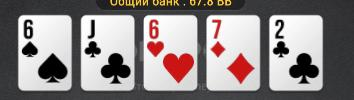2c: (271, 17, 322, 89)
6h: (145, 18, 196, 89)
6s: (19, 16, 71, 89)
7d: (209, 16, 259, 89)
Jc: (82, 17, 134, 89)
